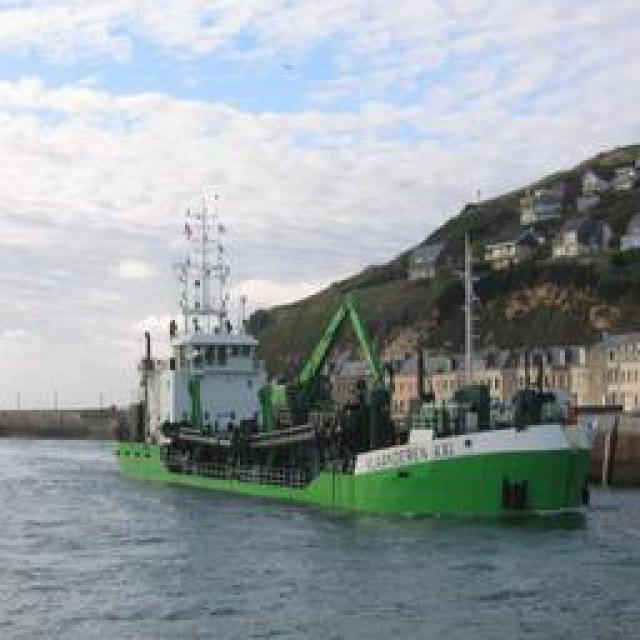Ship: (145, 131, 638, 514)
